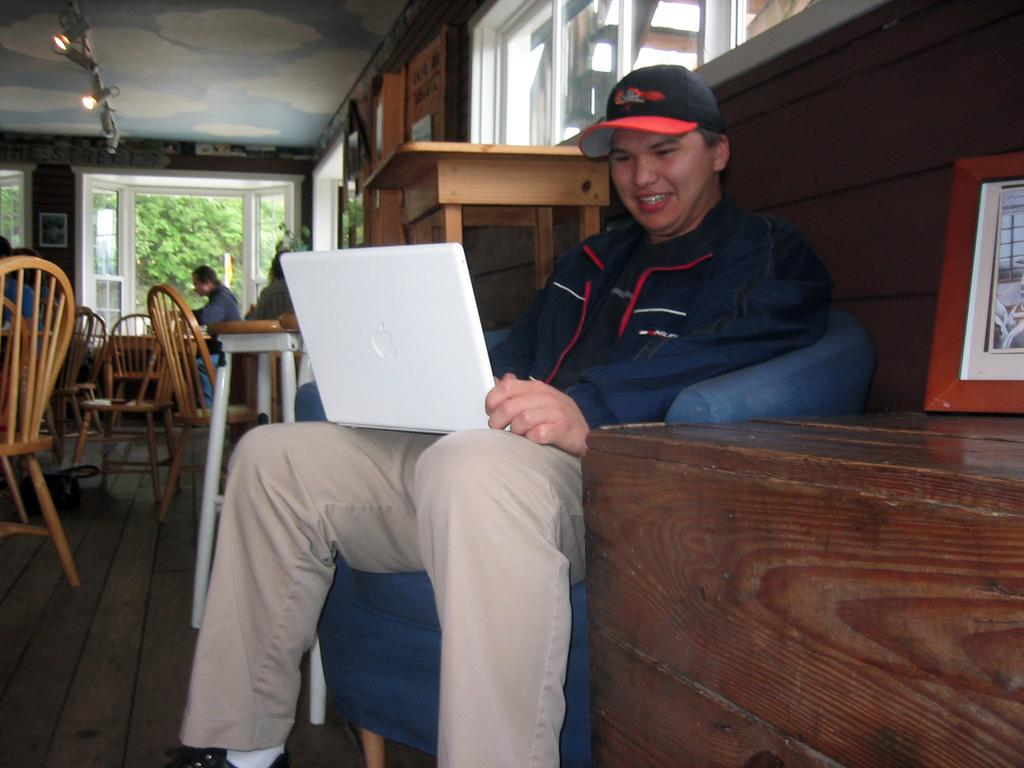Laptop: (252, 234, 523, 447)
